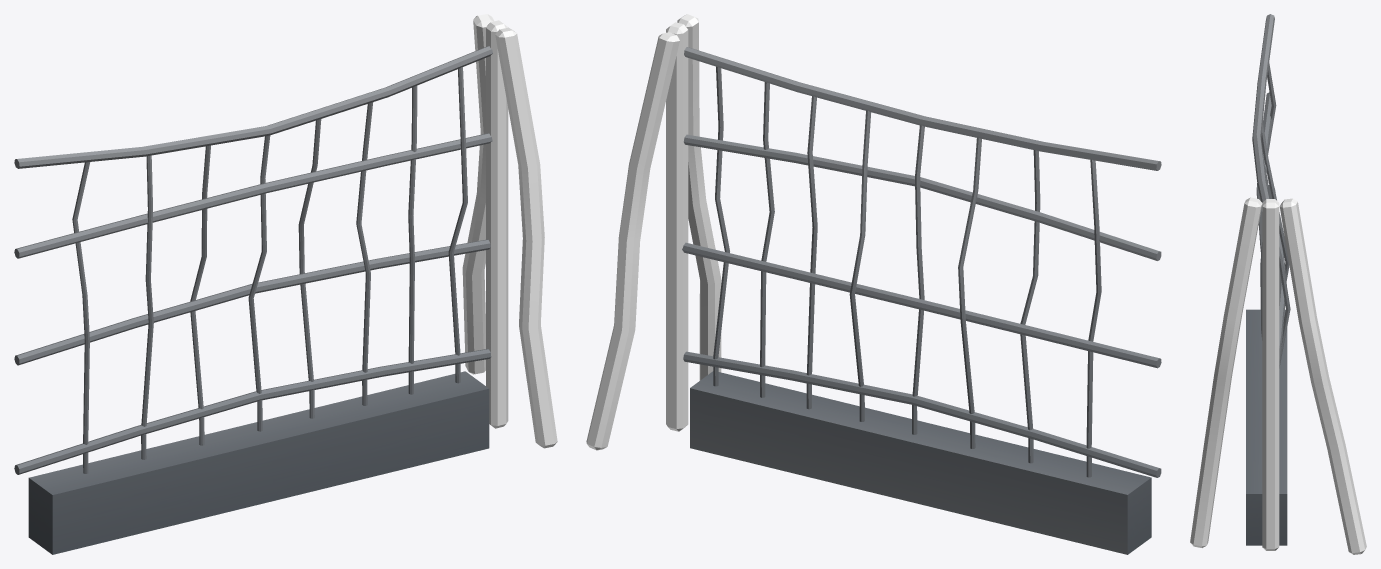
File: valla2.fbx
3 views of the same model, side by side, from view 1: azimuth 30°, elevation 25°; view 2: azimuth 150°, elevation 25°; view 3: azimuth 270°, elevation 25° (orthographic). The views are drawn at different scales.
Parts seen in each view (by area): view 1: valla2; view 2: valla2; view 3: valla2.
Boxes of the visible parts, x1,y1,x2,y2 form: valla2: (14,14,557,554); valla2: (586,14,1161,554); valla2: (1190,14,1366,554).
Bounding box in the file's own units: 435 × 329 × 148.
